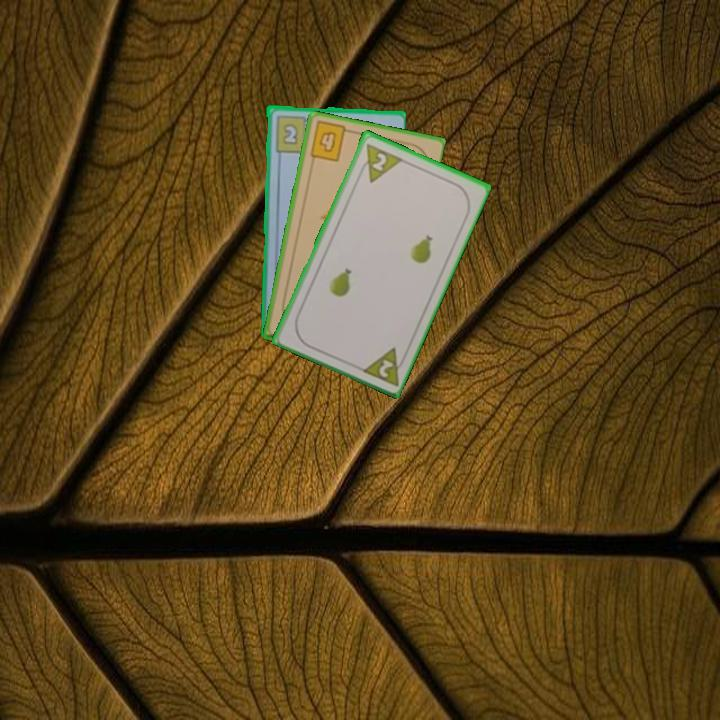2b: (271, 112, 315, 154)
2p: (354, 139, 404, 185), (357, 343, 408, 388)
4b: (306, 119, 355, 165)
